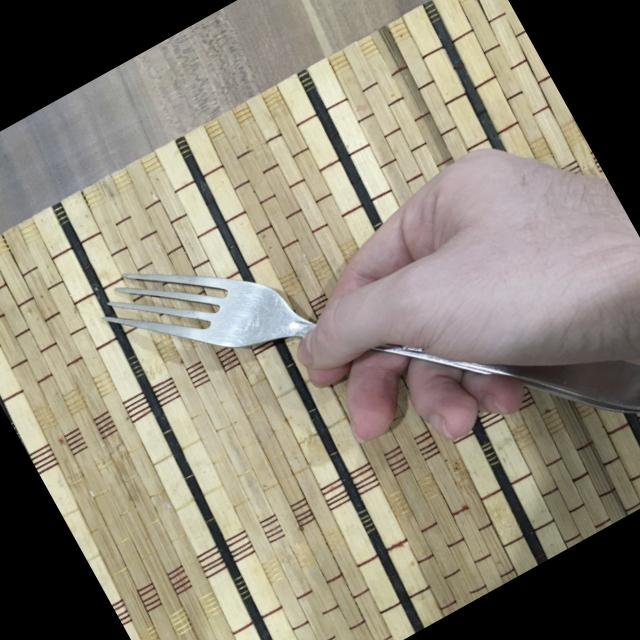fork: (84, 56, 640, 632)
